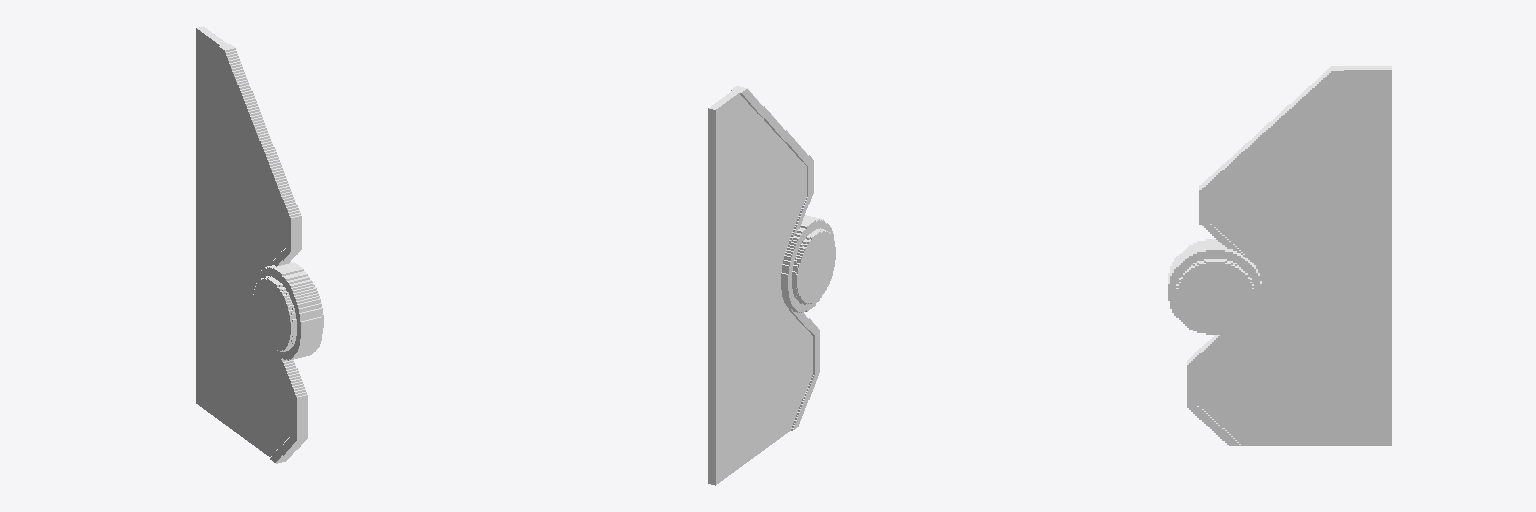
File: factory4.2+-1-factory4.2-1.obj
3 renders of one model, left to right at view 1: azimuth 30°, elevation 25°; view 2: azimuth 150°, elevation 25°; view 3: azimuth 270°, elevation 25°, orthographic.
Visible parts, largest first — view 1: factory4; view 2: factory4; view 3: factory4.
Part boxes in pixels (x1,y1,x2,y2): factory4: (196,26,323,463); factory4: (708,86,835,485); factory4: (1168,66,1391,445).
Bounding box in the file's own units: 1.8 × 19.8 × 10.7.